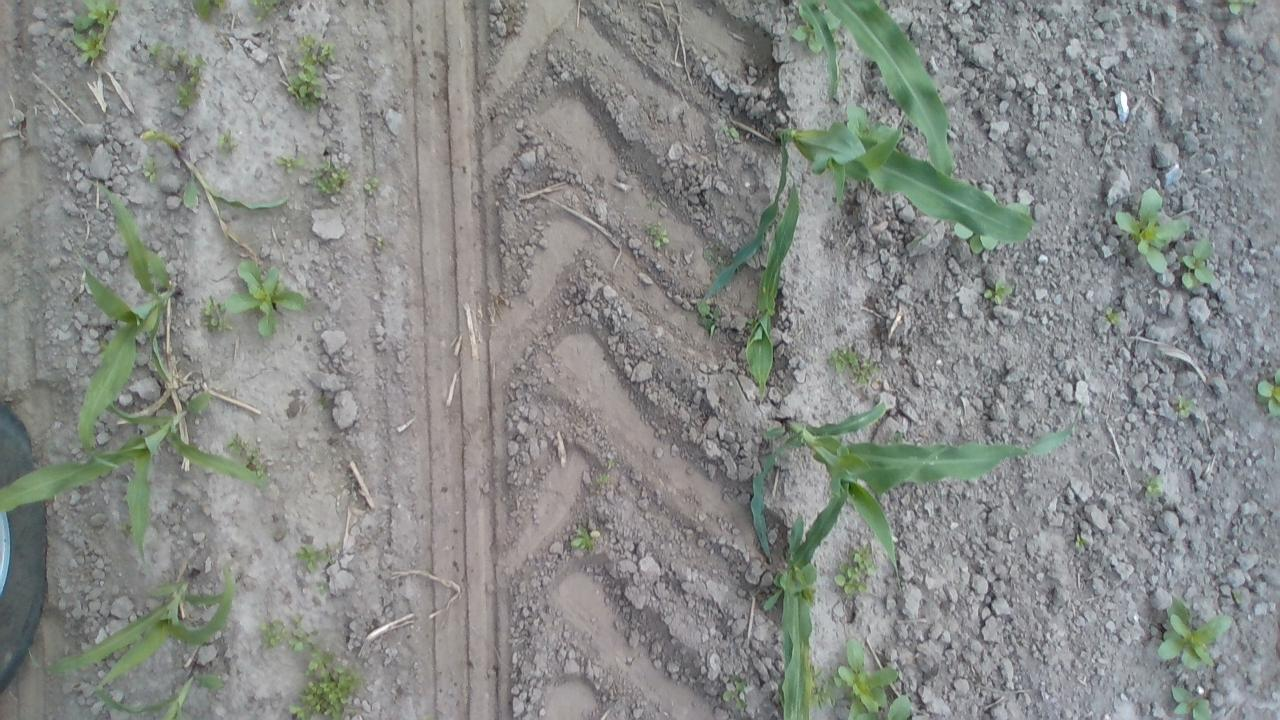Maize: (700, 93, 1044, 394), (743, 396, 1088, 584), (0, 388, 267, 564), (74, 174, 189, 452), (790, 0, 954, 175), (25, 564, 238, 673), (762, 479, 854, 720), (140, 130, 296, 234), (94, 655, 224, 720)
Weeds: (221, 255, 306, 342), (1112, 182, 1189, 276), (1156, 586, 1235, 672), (839, 637, 912, 720), (278, 647, 360, 720), (146, 32, 210, 110), (278, 30, 338, 110), (64, 0, 124, 60), (825, 338, 884, 395), (254, 611, 320, 653), (1180, 233, 1222, 292), (834, 542, 876, 598), (790, 8, 840, 55), (226, 431, 268, 479), (713, 667, 752, 717), (307, 154, 349, 198), (1168, 681, 1214, 720), (950, 223, 996, 257), (289, 539, 332, 572), (810, 664, 841, 708), (196, 292, 228, 334), (1256, 366, 1280, 418), (981, 273, 1018, 305), (246, 0, 286, 26), (568, 520, 596, 556), (1136, 472, 1164, 502), (702, 243, 729, 274), (696, 301, 721, 332), (274, 150, 304, 174), (138, 156, 161, 186), (213, 127, 236, 156), (720, 120, 747, 144), (1174, 393, 1196, 419), (646, 221, 667, 248), (1226, 0, 1256, 16), (1102, 304, 1122, 325), (361, 175, 380, 196), (118, 520, 134, 539), (372, 233, 389, 250), (1071, 532, 1087, 548), (594, 473, 610, 489), (604, 452, 615, 472), (1232, 586, 1244, 604), (210, 0, 225, 8)
